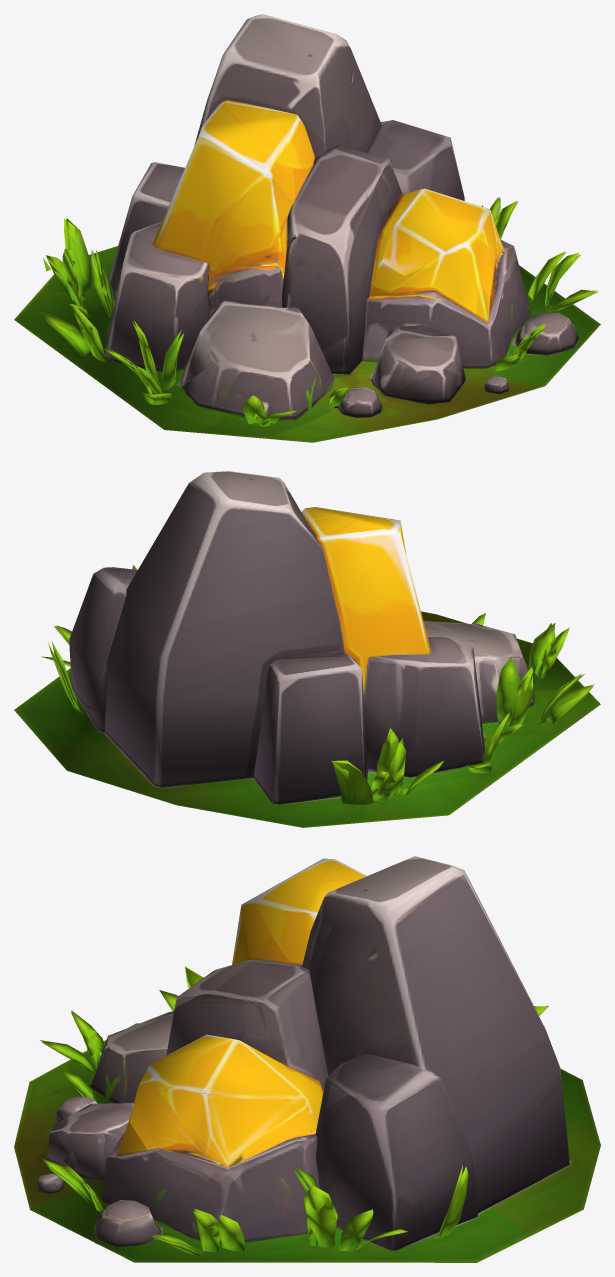
File: etapa75.glb
3 views of the same model, one above another, from view 1: azimuth 30°, elevation 25°; view 2: azimuth 150°, elevation 25°; view 3: azimuth 270°, elevation 25° (orthographic). The views are drawn at different scales.
Size of the model in its own units: 0.992 by 0.555 by 1.
1 material, 1 textured.
